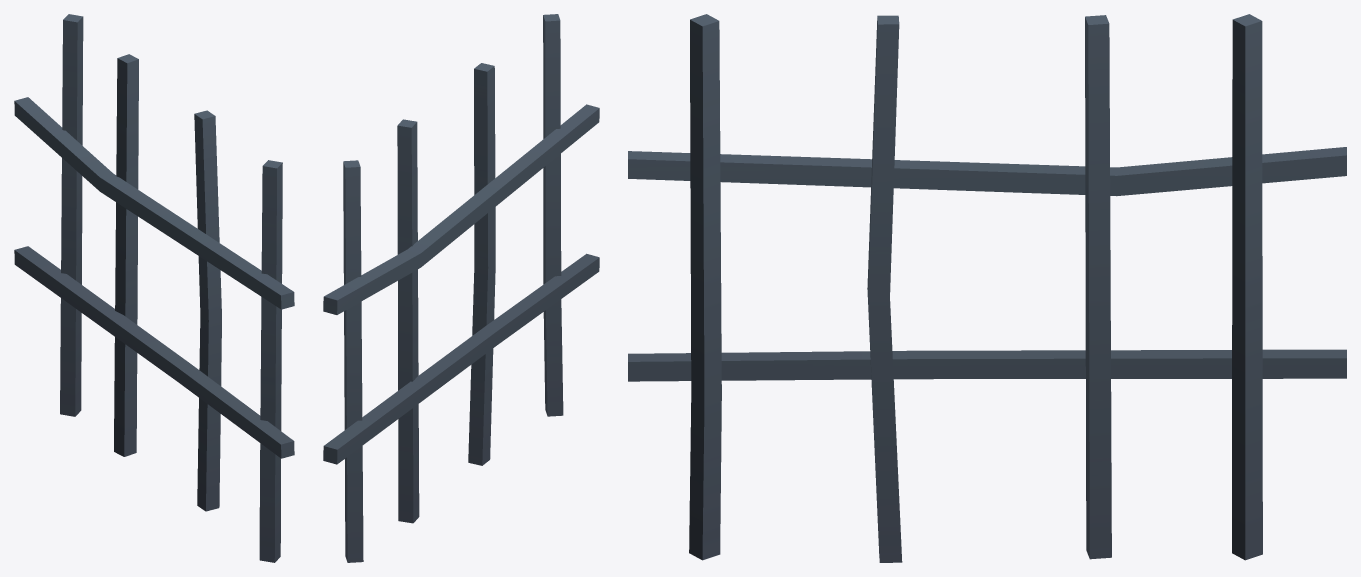
Rendered from RreinforcingBars_C_3__.obj.
The picture shows the model from 3 angles, left to right: view 1: azimuth 30°, elevation 25°; view 2: azimuth 150°, elevation 25°; view 3: azimuth 270°, elevation 25°; orthographic projection. The views are drawn at different scales.
Parts seen in each view (by area): view 1: RreinforcingBars_C_3__; view 2: RreinforcingBars_C_3__; view 3: RreinforcingBars_C_3__.
Part boxes in pixels (x1,y1,x2,y2): RreinforcingBars_C_3__: [14, 14, 294, 562]; RreinforcingBars_C_3__: [323, 14, 599, 562]; RreinforcingBars_C_3__: [628, 14, 1346, 562].
Size of the model in its own units: 0.0531 by 0.598 by 0.7276.
